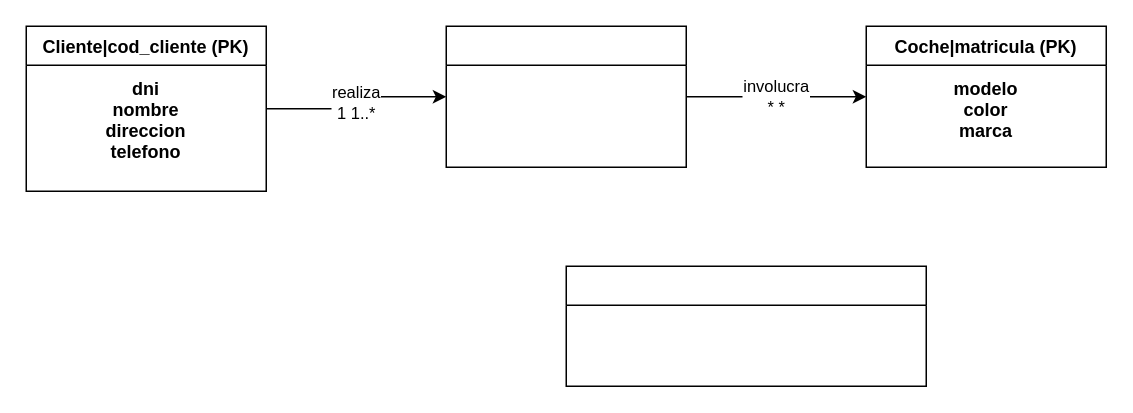
This 1133x413 diagram has some shape labels left out. Each missing label, with the centre of its shape:
"Reserva_Coche|precio_alquiler litros_gasolina entregado" belongs at point 745,325.
"Reserva|id_reserva (PK) fecha_inicio fecha_fin precio_total" belongs at point 565,96.
